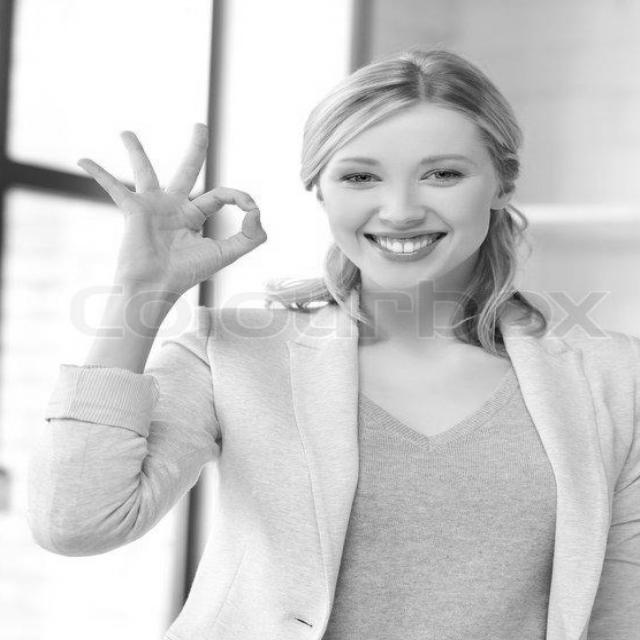perfect: (68, 115, 277, 328)
